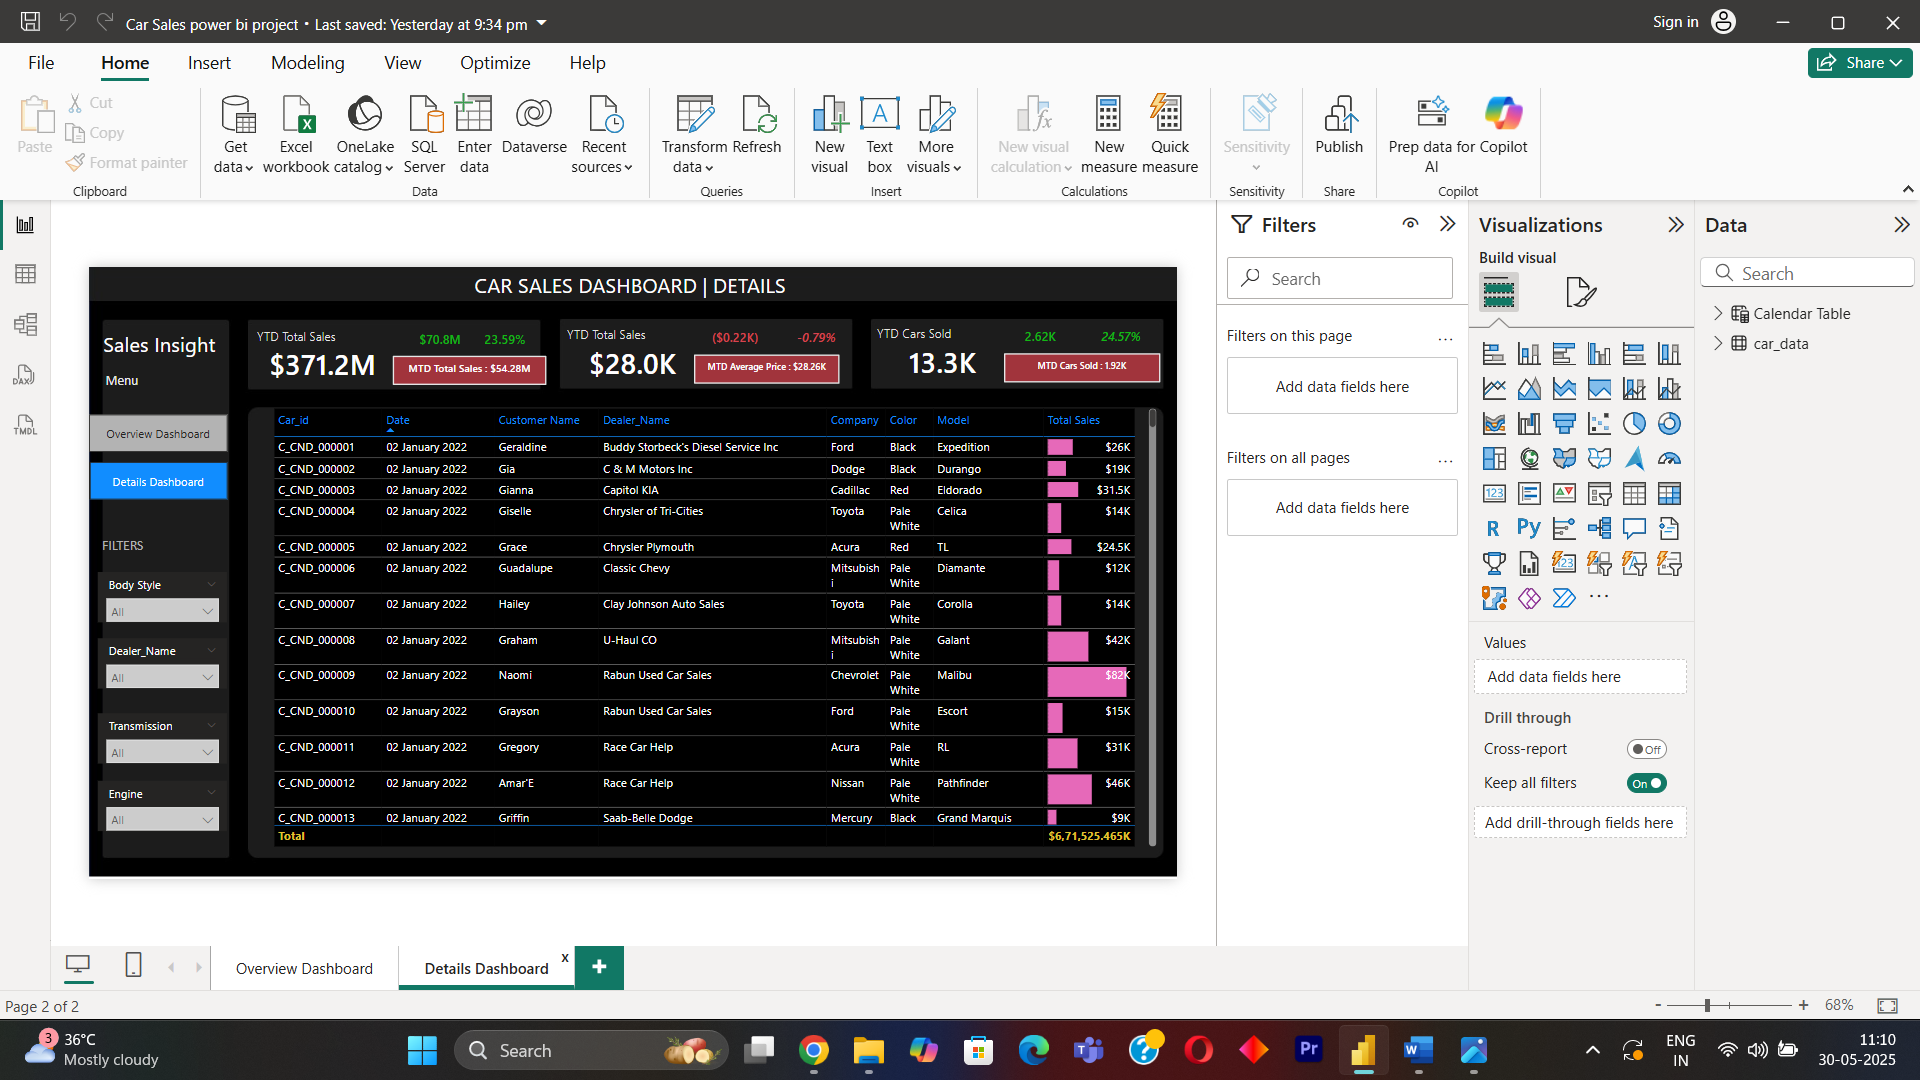

The page's visual inventory and layout, read from the dashboard file:
{"tool":"powerbi","page":{"name":"Details Dashboard","canvas":[1280,720],"ordinal":1},"visuals":[{"type":"card","title":"YTD Total Sales","fields":{"Values":["car_data.YTD Total Sales"]},"box":[192.1,70,164.7,68.6],"z":0},{"type":"card","fields":{"Values":["car_data.Sales Difference"]},"box":[374.6,68.6,76.8,35.7],"z":1000},{"type":"card","fields":{"Values":["car_data.Year to Year Sales Growth"]},"box":[451.5,68.6,76.8,35.7],"z":2000},{"type":"card","fields":{"Values":["car_data.MTD KPI"]},"box":[356.8,104.3,181.1,34.3],"z":3000},{"type":"card","title":"YTD Total Sales","fields":{"Values":["car_data.YTD Average Price"]},"box":[557.1,68.6,164.7,68.6],"z":4000},{"type":"card","fields":{"Values":["car_data.Average Price Difference"]},"box":[721.8,67.2,76.8,35.7],"z":5000},{"type":"card","fields":{"Values":["car_data.YOY Growth in Average Price"]},"box":[817.8,67.2,76.8,35.7],"z":6000},{"type":"card","fields":{"Values":["car_data.MTD Average KPI"]},"box":[712.2,102.9,171.5,34.3],"z":7000},{"type":"card","title":"YTD Cars Sold","fields":{"Values":["car_data.YTD Cars Sold"]},"box":[922.1,67.2,164.7,68.6],"z":8000},{"type":"card","fields":{"Values":["car_data.Cars Sold Difference"]},"box":[1077.2,65.9,86.4,35.7],"z":9000},{"type":"card","fields":{"Values":["car_data.YOY Growth in Cars Sold"]},"box":[1176,65.9,76.8,35.7],"z":10000},{"type":"card","fields":{"Values":["car_data.MTD KPI Cars Sold"]},"box":[1077.2,101.5,183.9,34.3],"z":11000},{"type":"textbox","box":[447.8,0,831.9,53.6],"z":12000},{"type":"slicer","fields":{"Values":["car_data.Body Style"]},"box":[10.1,359.4,152.2,59.4],"z":13000},{"type":"slicer","fields":{"Values":["car_data.Dealer_Name"]},"box":[10.1,436.2,152.2,59.4],"z":14000},{"type":"slicer","fields":{"Values":["car_data.Transmission"]},"box":[10.1,524.6,152.2,59.4],"z":15000},{"type":"slicer","fields":{"Values":["car_data.Engine"]},"box":[10.1,604.3,152.2,59.4],"z":16000},{"type":"textbox","box":[10.1,313,81.2,34.8],"z":17000},{"type":"tableEx","fields":{"Values":["car_data.Car_id","car_data.Date","car_data.Customer Name","car_data.Dealer_Name","car_data.Company","car_data.Color","car_data.Model","car_data.Total Sales"]},"box":[211.6,162.3,1049.3,524.6],"z":18000},{"type":"textbox","box":[11.6,69.6,152.2,49.3],"z":19000},{"type":"textbox","box":[0,118.8,152.2,34.8],"z":20000},{"type":"pageNavigator","box":[0,173.9,163.8,101.4],"z":21000}]}

Visuals, with their boxes on the page's 1280x720 design canvas (x1, y1, x2, y2). These are canvas units, not pixel positions in the 1920x1080 screenshot, which may show the page scaled, cropped or inside an application window:
"YTD Total Sales" card: <bbox>192, 70, 357, 139</bbox>
card - car_data.Sales Difference: <bbox>375, 69, 451, 104</bbox>
card - car_data.Year to Year Sales Growth: <bbox>452, 69, 528, 104</bbox>
card - car_data.MTD KPI: <bbox>357, 104, 538, 139</bbox>
"YTD Total Sales" card: <bbox>557, 69, 722, 137</bbox>
card - car_data.Average Price Difference: <bbox>722, 67, 799, 103</bbox>
card - car_data.YOY Growth in Average Price: <bbox>818, 67, 895, 103</bbox>
card - car_data.MTD Average KPI: <bbox>712, 103, 884, 137</bbox>
"YTD Cars Sold" card: <bbox>922, 67, 1087, 136</bbox>
card - car_data.Cars Sold Difference: <bbox>1077, 66, 1164, 102</bbox>
card - car_data.YOY Growth in Cars Sold: <bbox>1176, 66, 1253, 102</bbox>
card - car_data.MTD KPI Cars Sold: <bbox>1077, 102, 1261, 136</bbox>
textbox: <bbox>448, 0, 1280, 54</bbox>
slicer - car_data.Body Style: <bbox>10, 359, 162, 419</bbox>
slicer - car_data.Dealer_Name: <bbox>10, 436, 162, 496</bbox>
slicer - car_data.Transmission: <bbox>10, 525, 162, 584</bbox>
slicer - car_data.Engine: <bbox>10, 604, 162, 664</bbox>
textbox: <bbox>10, 313, 91, 348</bbox>
tableEx - car_data.Car_id x car_data.Date: <bbox>212, 162, 1261, 687</bbox>
textbox: <bbox>12, 70, 164, 119</bbox>
textbox: <bbox>0, 119, 152, 154</bbox>
pageNavigator: <bbox>0, 174, 164, 275</bbox>
